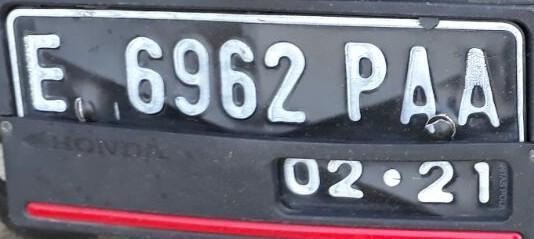2: (257, 38, 314, 126)
6: (214, 35, 264, 124), (121, 33, 169, 116)
9: (166, 34, 218, 118)
A: (449, 46, 510, 130), (395, 41, 448, 127)
E: (19, 29, 74, 112)
P: (334, 40, 396, 126)
